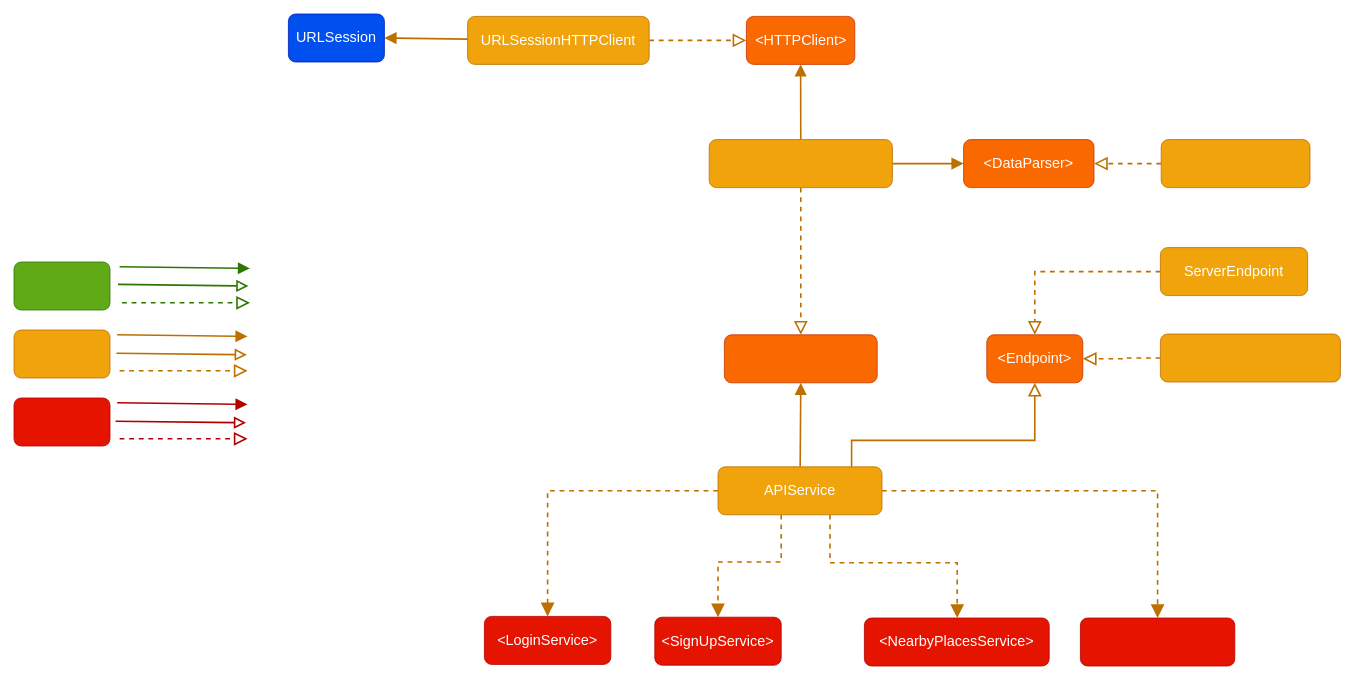
Some shapes in this 1354 by 680 pixel diagram are drawn without their labels. Each missing label, with the box of its shape:
<AddReviewService>: (1080, 617, 1235, 666)
<ResourceLoader>: (724, 334, 877, 383)
CodableDataParser: (1160, 139, 1310, 188)
GooglePlacesEndpoint: (1160, 333, 1340, 382)
RemoteResourceLoader: (708, 139, 892, 188)
